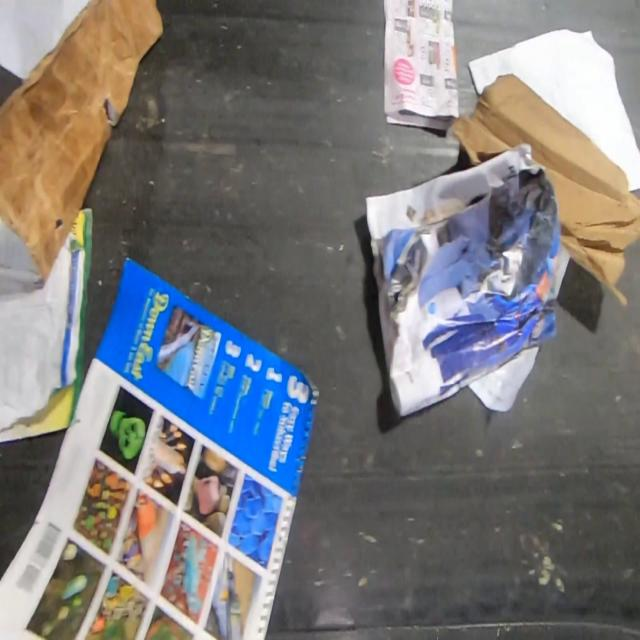cardboard: (448, 70, 640, 308)
